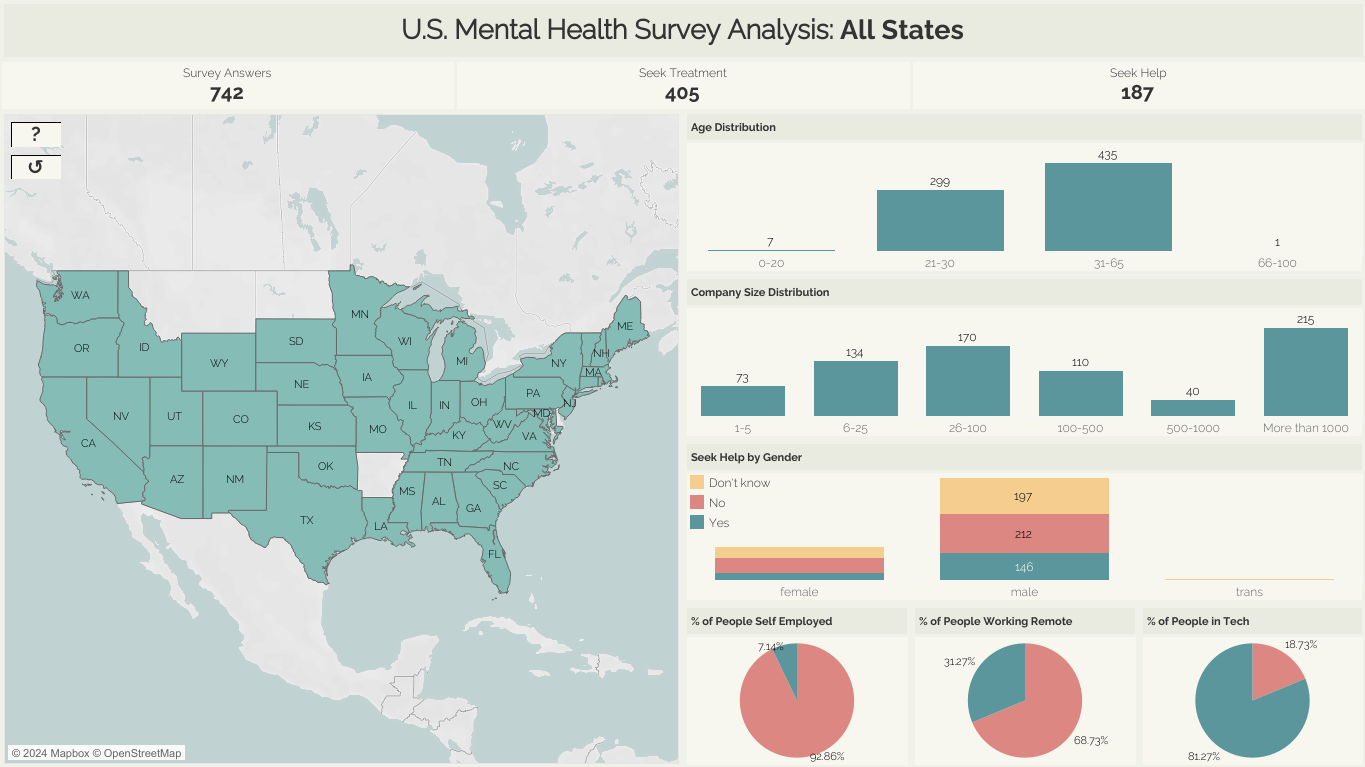

The dashboard page shown, as its layout file describes it:
{"tool":"tableau","page":{"name":"Mental Health Survey Analysis","canvas":[1366,768],"ordinal":0},"visuals":[{"type":"worksheet","title":"Dashboard Title","mark":"Automatic","box":[0,0,1366,60.2]},{"type":"worksheet","title":"# of Answers","mark":"Automatic","box":[0,60.2,455.3,49.8]},{"type":"worksheet","title":"# Seek Treatment","mark":"Automatic","box":[455.3,60.2,455.3,49.8]},{"type":"worksheet","title":"# Seek Help","mark":"Automatic","box":[910.7,60.2,455.3,49.8]},{"type":"worksheet","title":"Map","mark":"Multipolygon","box":[0,110,683,658]},{"type":"worksheet","title":"Age Distribution","mark":"Automatic","rows":["Age"],"cols":["age_range"],"box":[683,110,683,165]},{"type":"worksheet","title":"Help Box","mark":"Automatic","box":[11,122,50,25]},{"type":"worksheet","title":"Reset Button","mark":"Automatic","box":[11,155,50,24]},{"type":"worksheet","title":"Company Size Distribution","mark":"Automatic","rows":["no_employees"],"cols":["no_employees"],"box":[683,275,683,165]},{"type":"worksheet","title":"Seek Help by Gender","mark":"Automatic","rows":["seek_help"],"cols":["Gender"],"box":[683,440,683,164]},{"type":"legend","title":"Seek Help by Gender","param":"[federated.0cre1sp1ds8u3v0zt6jg81n83hjb].[none:seek_help:nk]","box":[687,472,103,72]},{"type":"worksheet","title":"% of People Self Employed","mark":"Pie","box":[683,604,228,164]},{"type":"worksheet","title":"% of People Working Remote","mark":"Pie","box":[911,604,228,164]},{"type":"worksheet","title":"% of People in Tech","mark":"Pie","box":[1139,604,227,164]}]}

Visuals, with their boxes in screenshot pixels (x1, y1, x2, y2), scaled from the page's 1366x768 canvas onto the 1365x767 screenshot:
"Dashboard Title" worksheet: select_region(0, 0, 1364, 60)
"# of Answers" worksheet: select_region(0, 60, 455, 110)
"# Seek Treatment" worksheet: select_region(455, 60, 910, 110)
"# Seek Help" worksheet: select_region(910, 60, 1364, 110)
"Map" worksheet (Multipolygon marks): select_region(0, 110, 682, 766)
"Age Distribution" worksheet: select_region(682, 110, 1364, 275)
"Help Box" worksheet: select_region(11, 122, 61, 147)
"Reset Button" worksheet: select_region(11, 155, 61, 179)
"Company Size Distribution" worksheet: select_region(682, 275, 1364, 439)
"Seek Help by Gender" worksheet: select_region(682, 439, 1364, 603)
"Seek Help by Gender" legend: select_region(686, 471, 789, 543)
"% of People Self Employed" worksheet (Pie marks): select_region(682, 603, 910, 766)
"% of People Working Remote" worksheet (Pie marks): select_region(910, 603, 1138, 766)
"% of People in Tech" worksheet (Pie marks): select_region(1138, 603, 1364, 766)
